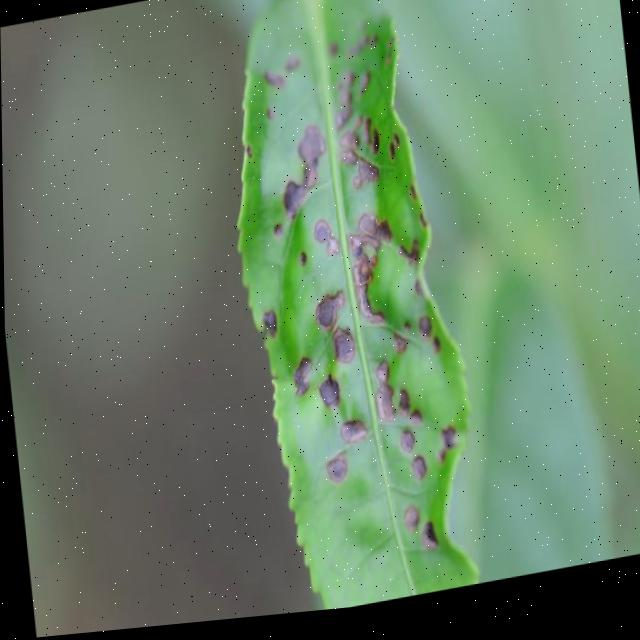Tea red scab: (236, 27, 471, 577)
